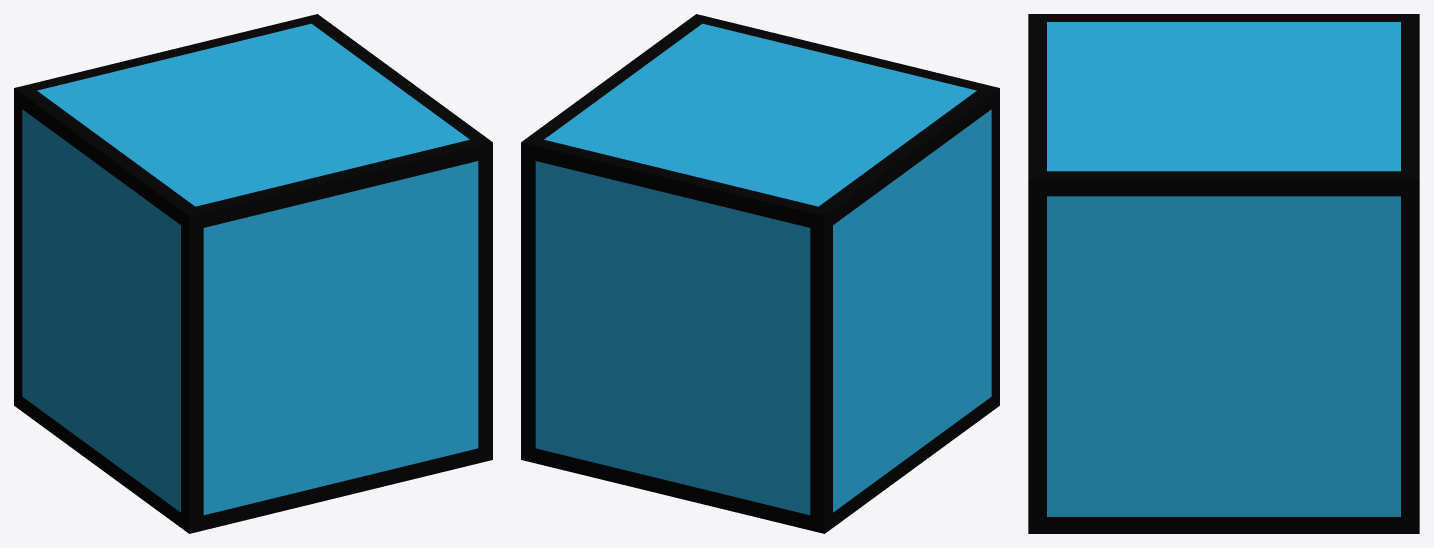
Rendered from Water1.glb.
The picture shows the model from 3 angles, left to right: view 1: azimuth 30°, elevation 25°; view 2: azimuth 150°, elevation 25°; view 3: azimuth 270°, elevation 25°; orthographic projection. The views are drawn at different scales.
Visible parts, largest first — view 1: Water; view 2: Water; view 3: Water.
Boxes of the visible parts, <box> form: Water: <box>14,14,492,533</box>; Water: <box>521,14,999,533</box>; Water: <box>1028,14,1419,533</box>.
Size of the model in its own units: 0.98 by 0.98 by 0.98.
